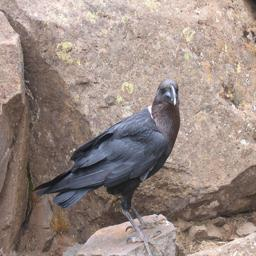Crow: (32, 78, 181, 255)
